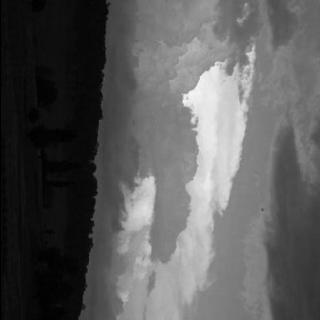Stratus: (95, 0, 320, 320)
